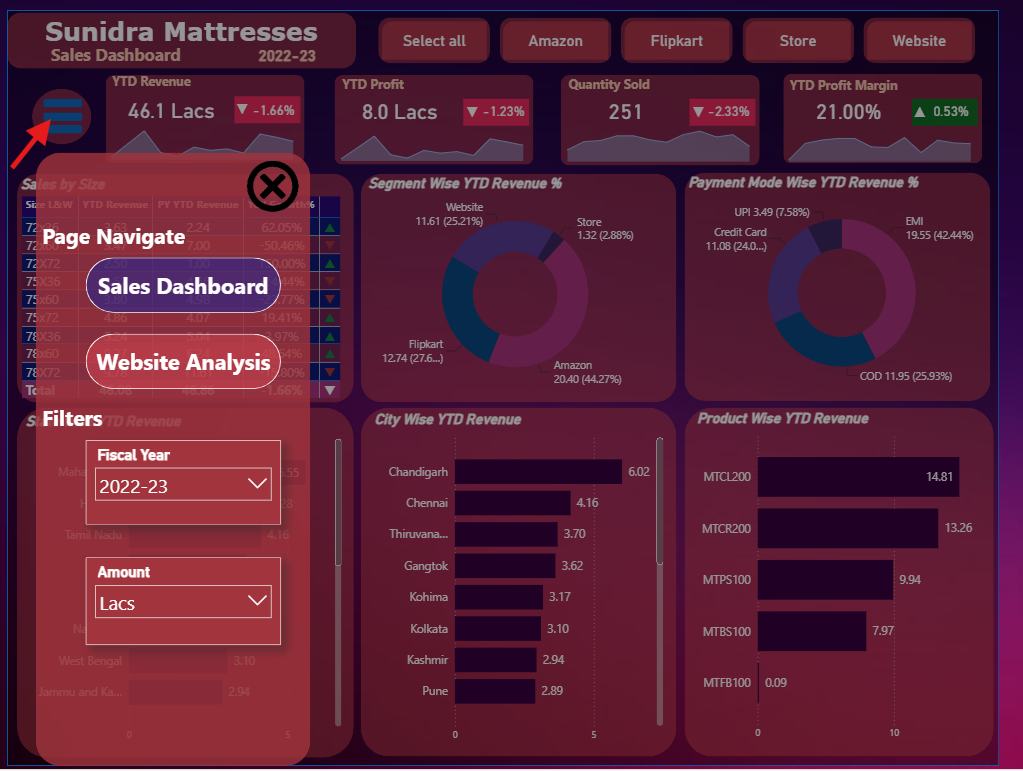

The dashboard page shown, as its layout file describes it:
{"tool":"powerbi","page":{"name":"Sales Dashboard","canvas":[1260,960],"ordinal":0},"visuals":[{"type":"shape","box":[31.1,100,75.4,70.5],"z":0,"group":"g1"},{"type":"shape","box":[12.3,207.7,427.7,290.8],"z":0},{"type":"shape","box":[0,3.1,443.2,71.4],"z":1000},{"type":"shape","box":[44.8,113.4,49.6,10.9],"z":1000,"group":"g1"},{"type":"textbox","box":[0,3.1,443.1,56.9],"z":2000},{"type":"shape","box":[44.8,129.5,49.6,10.9],"z":2000,"group":"g1"},{"type":"shape","box":[125.2,82,252.5,112.5],"z":3000},{"type":"shape","box":[44.8,145.8,49.6,10.9],"z":3000,"group":"g1"},{"type":"advancedSlicerVisual","fields":{"Values":["Order.Order Type"]},"box":[466.3,5.4,771.2,68.5],"z":4000},{"type":"areaChart","fields":{"Y":["Measures-YTD.YTD Revenue"],"Category":["Calender.Month"]},"box":[119.7,131.4,258,64.5],"z":5000},{"type":"shape","box":[288.2,109.3,83.7,34.3],"z":6000},{"type":"card","fields":{"Values":["Measures-YTD.Revenue Growth%"]},"box":[287.4,104,102.2,45.8],"z":7000},{"type":"card","fields":{"Values":["Measures-YTD.Revenue%_Icon"]},"box":[283.3,111.8,32.3,31.8],"z":8000},{"type":"textbox","box":[129.1,74.9,121.5,40.9],"z":9000},{"type":"shape","box":[415.9,82,252.7,114],"z":10000},{"type":"card","title":"YTD Revenue","fields":{"Values":["Measures-YTD.YTD_Profit_Amount"]},"box":[393.7,91.8,210.8,72],"z":11000},{"type":"areaChart","fields":{"Category":["Calender.Month"],"Y":["Measures-YTD.YTD Profit"]},"box":[410.6,133.6,258.1,64.5],"z":12000},{"type":"shape","box":[579.5,112.2,83.7,34.3],"z":13000},{"type":"card","fields":{"Values":["Measures-YTD.ProfitGrowth%"]},"box":[578.6,106.9,102.2,45.8],"z":14000},{"type":"card","fields":{"Values":["Measures-YTD.Profit%_Icon"]},"box":[574.5,114.8,32.3,31.8],"z":15000},{"type":"textbox","box":[420.3,77.9,121.5,40.9],"z":16000},{"type":"card","title":"YTD Revenue","fields":{"Values":["Measures-YTD.YTD_Revenue_Amount"]},"box":[103.3,90.2,211.5,72.1],"z":17000},{"type":"shape","box":[703.1,81.9,252.7,115.1],"z":18000},{"type":"card","title":"YTD Revenue","fields":{"Values":["Measures-YTD.YTD Quantity"]},"box":[680.9,91.6,210.8,72],"z":19000},{"type":"areaChart","fields":{"Category":["Calender.Month"],"Y":["Measures-YTD.Quantity"]},"box":[697.7,133.4,258.1,64.5],"z":20000},{"type":"shape","box":[866.6,112,83.7,34.3],"z":21000},{"type":"card","fields":{"Values":["Measures-YTD.Quantity Growth%"]},"box":[865.8,106.7,102.2,45.8],"z":22000},{"type":"card","fields":{"Values":["Measures-YTD.Growth%_Icon"]},"box":[861.7,114.5,32.3,31.8],"z":23000},{"type":"textbox","box":[707.5,77.7,121.5,40.9],"z":24000},{"type":"shape","box":[984.9,81.7,252.7,114],"z":25000},{"type":"card","title":"YTD Revenue","fields":{"Values":["Measures-YTD.Profit Margin %"]},"box":[962.8,92,210.8,72],"z":26000},{"type":"areaChart","fields":{"Category":["Calender.Month"],"Y":["Measures-YTD.Profit Margin %"]},"box":[979.7,133.8,258.1,64.5],"z":27000},{"type":"shape","box":[1148.6,112.4,83.7,34.3],"z":28000},{"type":"card","fields":{"Values":["Measures-YTD.Profit Margin Growth%"]},"box":[1147.7,107.1,102.2,45.8],"z":29000},{"type":"card","fields":{"Values":["Measures-YTD.ProfitMargin%_Icon"]},"box":[1143.6,114.9,32.3,31.8],"z":30000},{"type":"textbox","box":[988.5,78.7,209.8,41],"z":31000},{"type":"tableEx","title":"Sales by Size","fields":{"Values":["Product.Size_L&W","Measures-YTD.YTD Revenue (Ones)","Measures-YTD.PY YTD Revenue (Ones)","Measures-YTD.Revenue Growth%","Measures-YTD.Revenue%_Icon"]},"box":[12.3,210.8,429.2,292.3],"z":32000},{"type":"shape","box":[449.8,208.6,401,290.1],"z":33000},{"type":"donutChart","title":"Segment Wise YTD Revenue %","fields":{"Y":["Measures-YTD.YTD Revenue (Ones)"],"Category":["Order.Order Type"]},"box":[454.7,210.3,383,282],"z":34000},{"type":"group","id":"g1","title":"Group 1","box":[31.1,100,75.4,70.5],"z":35000},{"type":"shape","box":[31.1,91.8,75.4,78.7],"z":36000},{"type":"shape","box":[860.7,206.6,388.5,290.2],"z":37000},{"type":"donutChart","title":"Payment Mode Wise YTD Revenue %","fields":{"Y":["Measures-YTD.YTD Revenue (Ones)"],"Category":["Details.PaymentMode"]},"box":[860.7,208.2,400,282],"z":38000},{"type":"card","title":"YTD Revenue","fields":{"Values":["Measures-Sales.MaxFY"]},"box":[251,22.8,210.3,73.3],"z":38500},{"type":"textbox","box":[50.5,35.9,200.5,39.1],"z":38750},{"type":"shape","box":[12.3,504.6,427.7,444.6],"z":39000},{"type":"clusteredBarChart","title":"State Wise YTD Revenue","fields":{"Category":["Order.State"],"Y":["Measures-YTD.YTD Revenue (Ones)"]},"box":[18.5,510.8,410.8,427.7],"z":40000},{"type":"shape","box":[449.8,505.3,401,443.3],"z":41000},{"type":"clusteredBarChart","title":"City Wise YTD Revenue","fields":{"Y":["Measures-YTD.YTD Revenue (Ones)"],"Category":["Order.City"]},"box":[461.3,510.2,376.5,428.7],"z":42000},{"type":"shape","box":[860.6,505.3,392.8,443.3],"z":43000},{"type":"clusteredBarChart","title":"Product Wise YTD Revenue","fields":{"Y":["Measures-YTD.YTD Revenue (Ones)"],"Category":["Product.Model"]},"box":[872,508.5,387.9,428.7],"z":44000},{"type":"shape","box":[31.1,95.1,75.4,75.4],"z":51000}]}

Visuals, with their boxes in screenshot pixels (x1, y1, x2, y2), scaled from the page's 1260x960 canvas onto the 1023x771 screenshot:
shape: [25,80,86,137]
shape: [10,167,357,400]
shape: [0,2,360,60]
shape: [36,91,77,100]
textbox: [0,2,360,48]
shape: [36,104,77,113]
shape: [102,66,307,156]
shape: [36,117,77,126]
advancedSlicerVisual - Order.Order Type: [379,4,1005,59]
areaChart - Measures-YTD.YTD Revenue x Calender.Month: [97,106,307,157]
shape: [234,88,302,115]
card - Measures-YTD.Revenue Growth%: [233,84,316,120]
card - Measures-YTD.Revenue%_Icon: [230,90,256,115]
textbox: [105,60,203,93]
shape: [338,66,543,157]
"YTD Revenue" card: [320,74,491,132]
areaChart - Calender.Month x Measures-YTD.YTD Profit: [333,107,543,159]
shape: [470,90,538,118]
card - Measures-YTD.ProfitGrowth%: [470,86,553,123]
card - Measures-YTD.Profit%_Icon: [466,92,493,118]
textbox: [341,63,440,95]
"YTD Revenue" card: [84,72,256,130]
shape: [571,66,776,158]
"YTD Revenue" card: [553,74,724,131]
areaChart - Calender.Month x Measures-YTD.Quantity: [566,107,776,159]
shape: [704,90,772,117]
card - Measures-YTD.Quantity Growth%: [703,86,786,122]
card - Measures-YTD.Growth%_Icon: [700,92,726,117]
textbox: [574,62,673,95]
shape: [800,66,1005,157]
"YTD Revenue" card: [782,74,953,132]
areaChart - Calender.Month x Measures-YTD.Profit Margin %: [795,107,1005,159]
shape: [933,90,1001,118]
card - Measures-YTD.Profit Margin Growth%: [932,86,1015,123]
card - Measures-YTD.ProfitMargin%_Icon: [928,92,955,118]
textbox: [803,63,973,96]
"Sales by Size" tableEx: [10,169,358,404]
shape: [365,168,691,401]
"Segment Wise YTD Revenue %" donutChart: [369,169,680,395]
"Group 1" group: [25,80,86,137]
shape: [25,74,86,137]
shape: [699,166,1014,399]
"Payment Mode Wise YTD Revenue %" donutChart: [699,167,1022,394]
"YTD Revenue" card: [204,18,375,77]
textbox: [41,29,204,60]
shape: [10,405,357,762]
"State Wise YTD Revenue" clusteredBarChart: [15,410,349,754]
shape: [365,406,691,762]
"City Wise YTD Revenue" clusteredBarChart: [375,410,680,754]
shape: [699,406,1018,762]
"Product Wise YTD Revenue" clusteredBarChart: [708,408,1022,753]
shape: [25,76,86,137]
